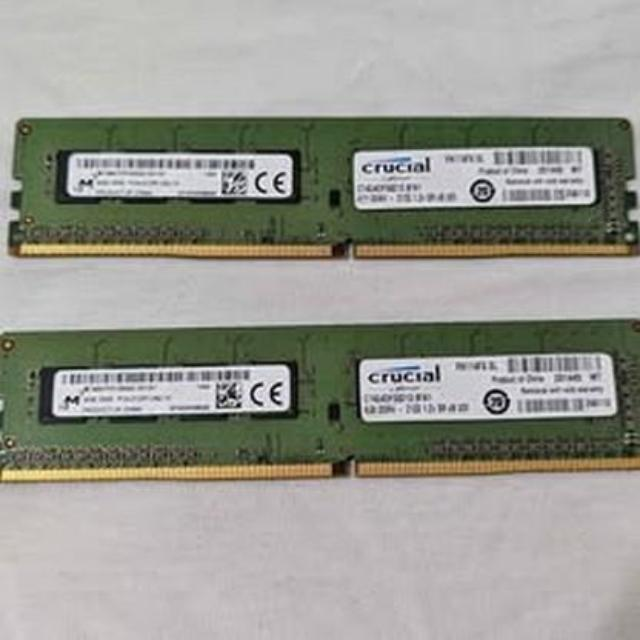RAM: (0, 328, 640, 497), (0, 103, 640, 266)
